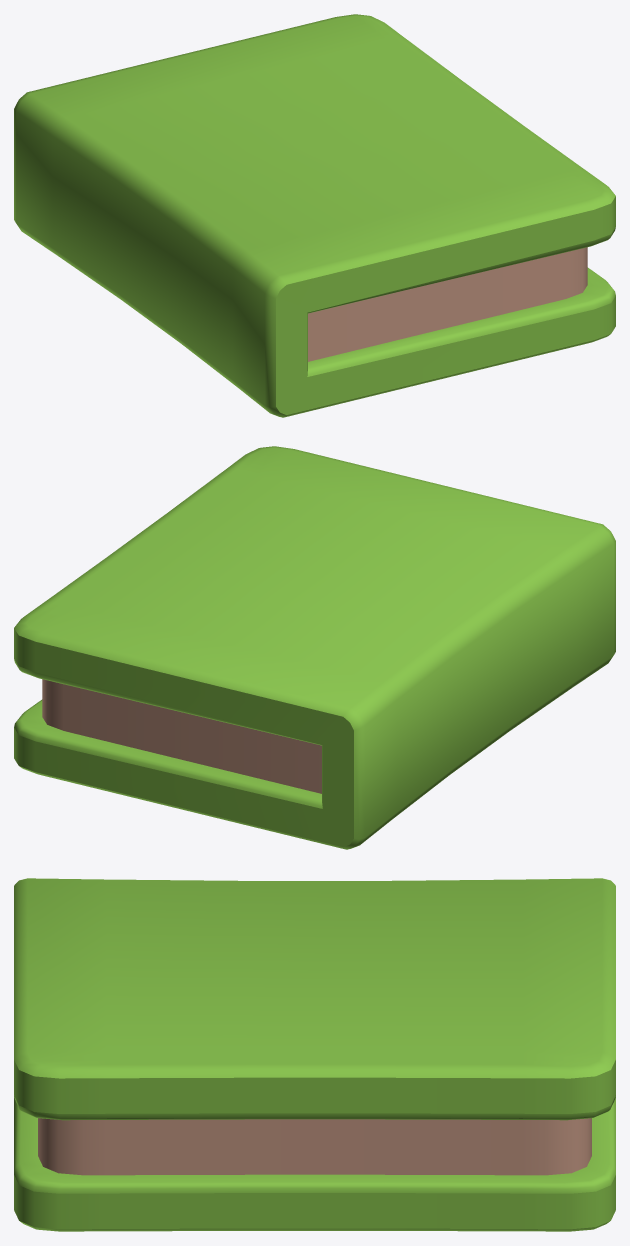
Rendered from Book_003.FBX.
The picture shows the model from 3 angles, top to bottom: view 1: azimuth 30°, elevation 25°; view 2: azimuth 150°, elevation 25°; view 3: azimuth 270°, elevation 25°; orthographic projection. The views are drawn at different scales.
Parts seen in each view (by area): view 1: Book_003; view 2: Book_003; view 3: Book_003.
Part boxes in pixels (x1=…): Book_003: x1=14, y1=14, x2=615, y2=417; Book_003: x1=14, y1=446, x2=615, y2=849; Book_003: x1=14, y1=878, x2=615, y2=1231.
Bounding box in the file's own units: 8.24 × 3.1 × 10.38.
